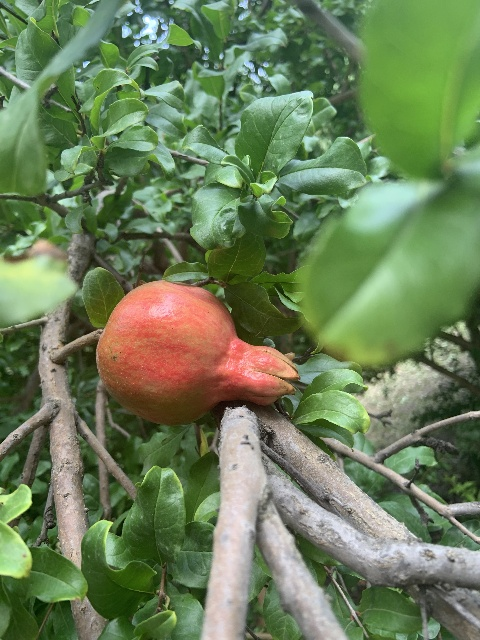ripe: (96, 280, 301, 423)
